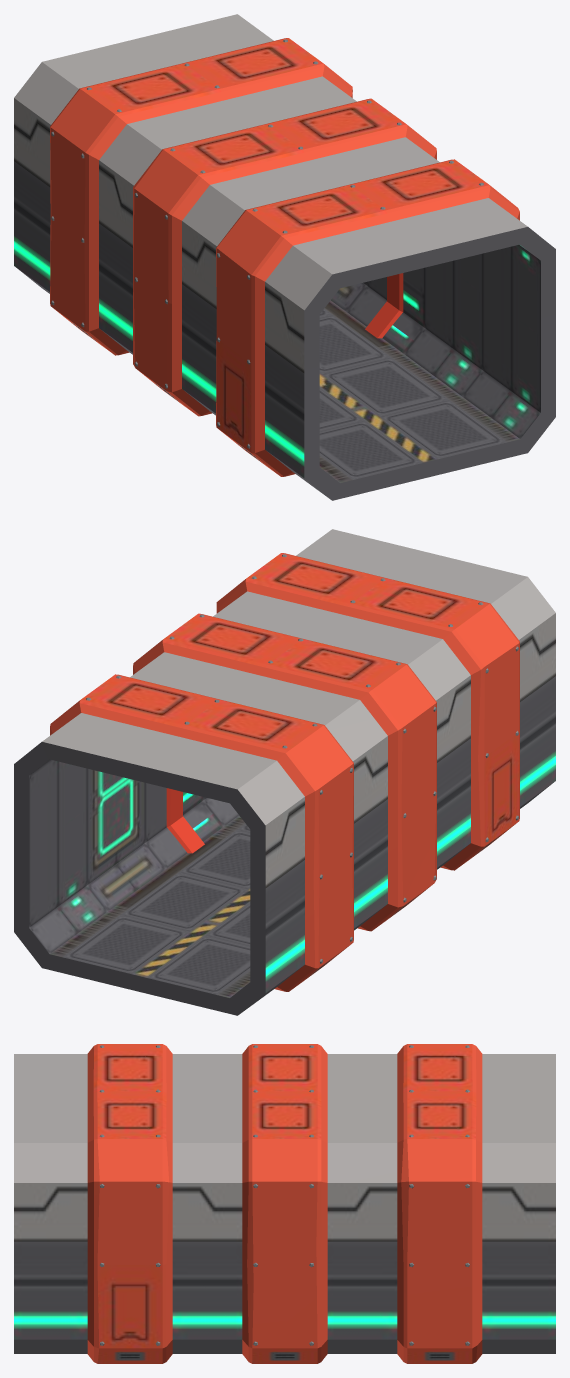
Rendered from entity65148.glb.
3 views of the same model, one above another, from view 1: azimuth 30°, elevation 25°; view 2: azimuth 150°, elevation 25°; view 3: azimuth 270°, elevation 25° (orthographic). The views are drawn at different scales.
Parts seen in each view (by area): view 1: node_SM_Bld_Pod_Corridor_Square_01 (8); view 2: node_SM_Bld_Pod_Corridor_Square_01 (8); view 3: node_SM_Bld_Pod_Corridor_Square_01 (8).
Part boxes in pixels (x1,y1,x2,y2): node_SM_Bld_Pod_Corridor_Square_01 (8): (14, 14, 555, 500); node_SM_Bld_Pod_Corridor_Square_01 (8): (14, 529, 555, 1015); node_SM_Bld_Pod_Corridor_Square_01 (8): (14, 1044, 555, 1363).
Bounding box in the file's own units: 5.37 × 4.6 × 10.
Materials: 1 (1 with a texture image).
